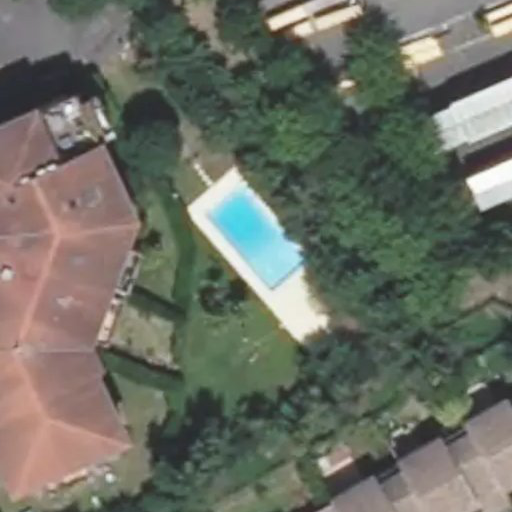pool: (200, 219, 312, 263)
